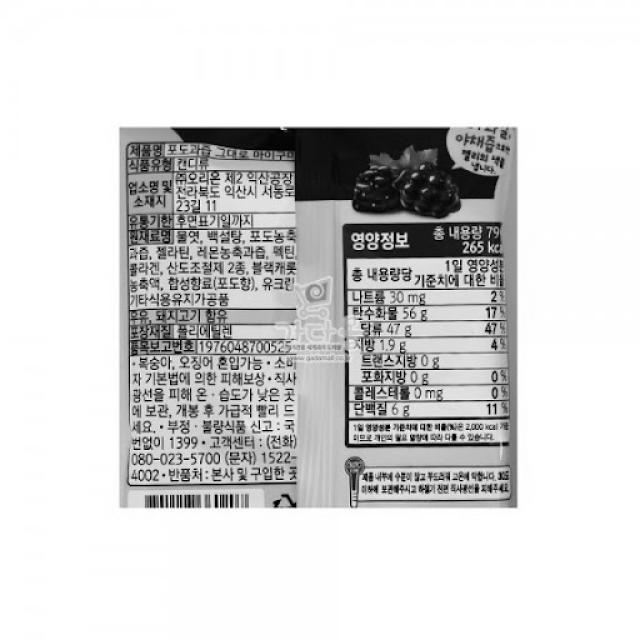Nutrition Label: (336, 208, 529, 458)
